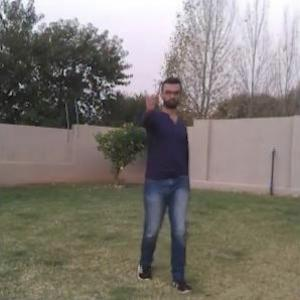takeoff-hand: (141, 84, 161, 112)
